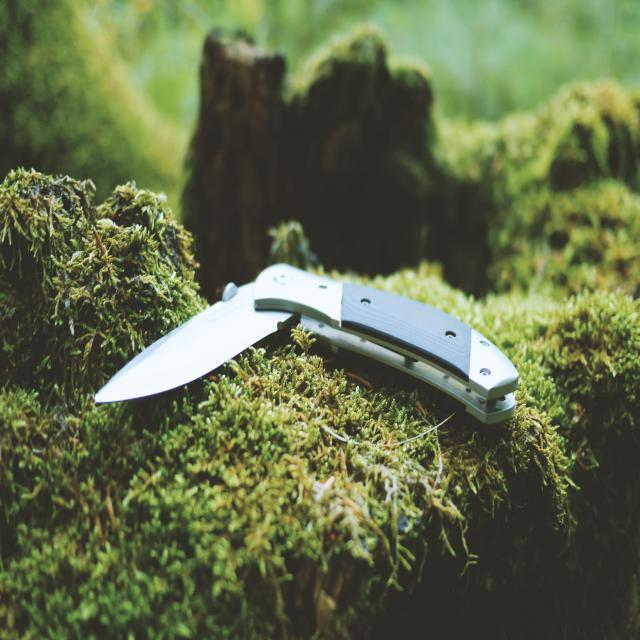Knife: (96, 264, 519, 423)
